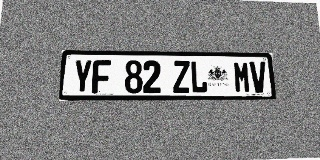2: (143, 60, 161, 93)
8: (125, 60, 143, 93)
F: (92, 60, 111, 93)
L: (190, 61, 208, 93)
M: (233, 61, 251, 93)
V: (249, 61, 267, 93)
Y: (72, 60, 92, 93)
Z: (173, 61, 190, 93)
